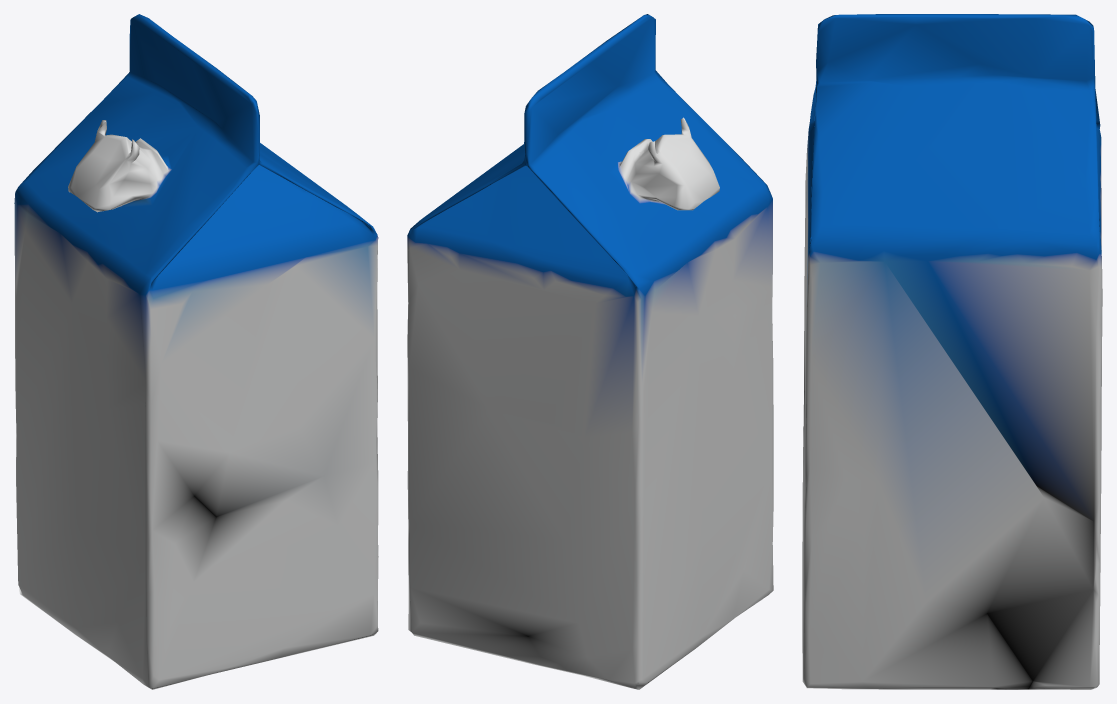
Rendered from gen3d-milk-lod1.glb.
The picture shows the model from 3 angles, left to right: view 1: azimuth 30°, elevation 25°; view 2: azimuth 150°, elevation 25°; view 3: azimuth 270°, elevation 25°; orthographic projection. The views are drawn at different scales.
Parts seen in each view (by area): view 1: part_0; view 2: part_0; view 3: part_0.
Boxes of the visible parts, x1,y1,x2,y2 form: part_0: (14,14,378,689); part_0: (407,14,773,689); part_0: (802,14,1102,689).
Size of the model in its own units: 0.4376 by 0.9998 by 0.4425.
